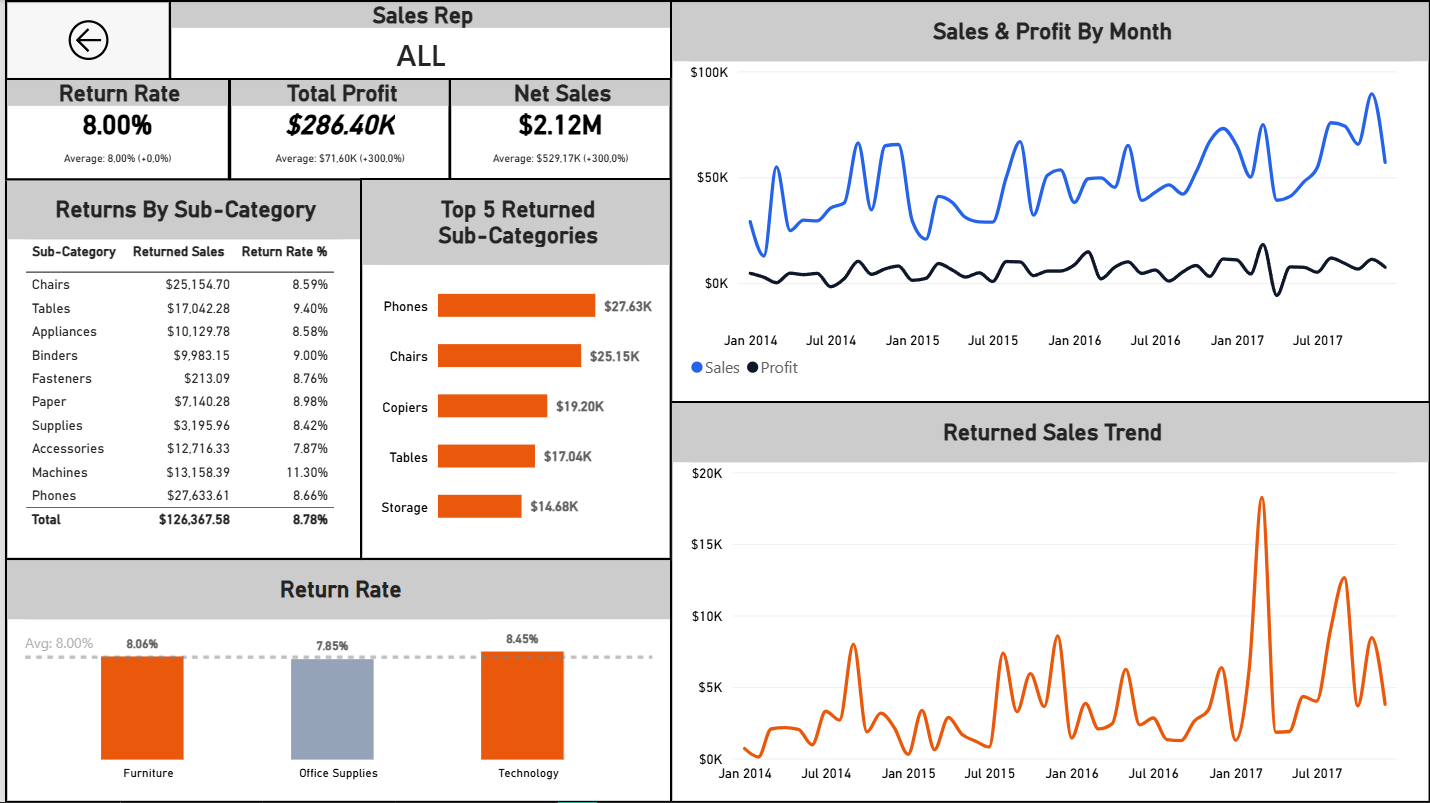

Layout of this report page (visuals, bound fields, positions):
{"tool":"powerbi","page":{"name":"Sales Rep Details","canvas":[1280,720],"ordinal":1},"visuals":[{"type":"actionButton","box":[0,0,149,72],"z":0},{"type":"cardVisual","title":"Sales Rep","fields":{"Data":["_Measures.Selected Manager Name"]},"box":[146.9,0,452,73],"z":1000},{"type":"clusteredColumnChart","title":"Return Rate","fields":{"Category":["Retails Order Full Dataset.Category","Retails Order Full Dataset.Sub-Category"],"Y":["_Measures.Return Rate %"]},"box":[0,500.9,599,220],"z":5000},{"type":"lineChart","title":"Sales & Profit By Month","fields":{"Category":["Calendar Table.Month & Year","Retails Order Full Dataset.Order Date"],"Y":["_Measures.Total Sales","_Measures.Total Profit"]},"box":[597.2,0,683,362],"z":6000},{"type":"tableEx","title":"Returns By Sub-Category","fields":{"Values":["Retails Order Full Dataset.Sub-Category","_Measures.Returned Sales","_Measures.Return Rate %"]},"box":[0,159.5,321,343],"z":7000},{"type":"cardVisual","title":"Return Rate","fields":{"Data":["_Measures.Return Rate %"]},"box":[0,70,202,92],"z":7003},{"type":"cardVisual","title":"Total Profit","fields":{"Data":["_Measures.Total Profit"]},"box":[201.1,70,199.4,92],"z":7004},{"type":"cardVisual","title":"Net Sales","fields":{"Data":["_Measures.Net Sales"]},"box":[398.8,70,200,92],"z":7005},{"type":"lineChart","title":"Returned Sales Trend","fields":{"Category":["Calendar Table.Month & Year","Retails Order Full Dataset.Order Date"],"Y":["_Measures.Returned Sales"]},"box":[597.2,359.9,683,361],"z":7006},{"type":"clusteredBarChart","title":"Top 5 Returned Sub-Categories","fields":{"Category":["Retails Order Full Dataset.Sub-Category"],"Y":["_Measures.Returned Sales"]},"box":[319,159.5,280,343],"z":7007}]}

Visuals, with their boxes in screenshot pixels (x1, y1, x2, y2), scaled from the page's 1280x720 canvas onto the 1430x803 screenshot:
actionButton: (0,0,166,80)
"Sales Rep" cardVisual: (164,0,669,81)
"Return Rate" clusteredColumnChart: (0,559,669,802)
"Sales & Profit By Month" lineChart: (667,0,1429,404)
"Returns By Sub-Category" tableEx: (0,178,359,560)
"Return Rate" cardVisual: (0,78,226,181)
"Total Profit" cardVisual: (225,78,447,181)
"Net Sales" cardVisual: (446,78,669,181)
"Returned Sales Trend" lineChart: (667,401,1429,802)
"Top 5 Returned Sub-Categories" clusteredBarChart: (356,178,669,560)
